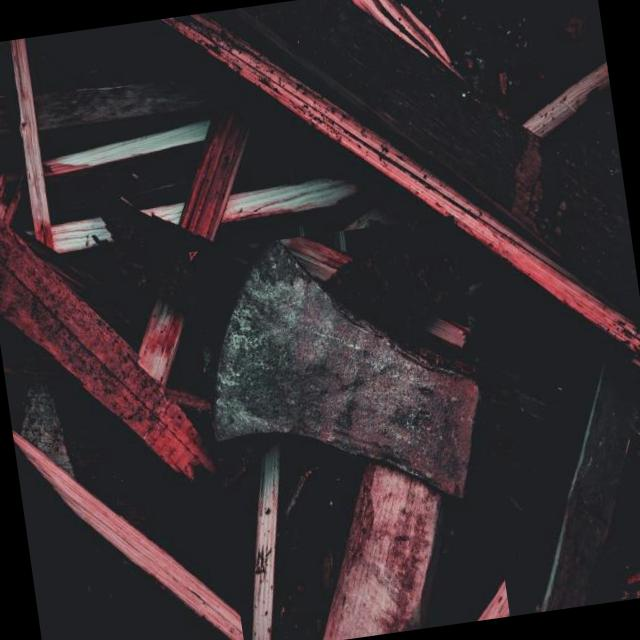Axe: (216, 240, 479, 640)
